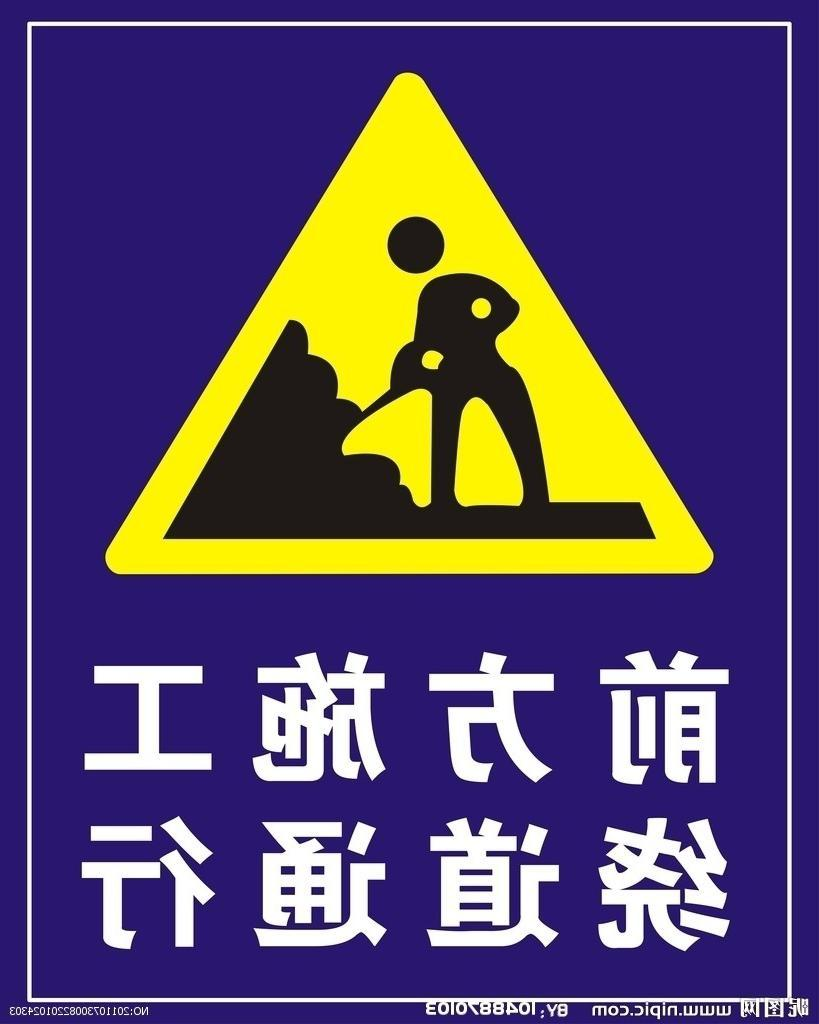sign: (19, 16, 797, 1009)
